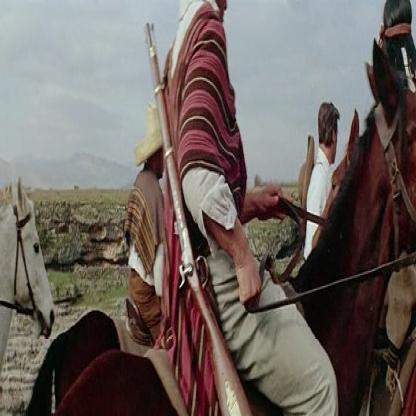gun: (144, 10, 247, 416)
